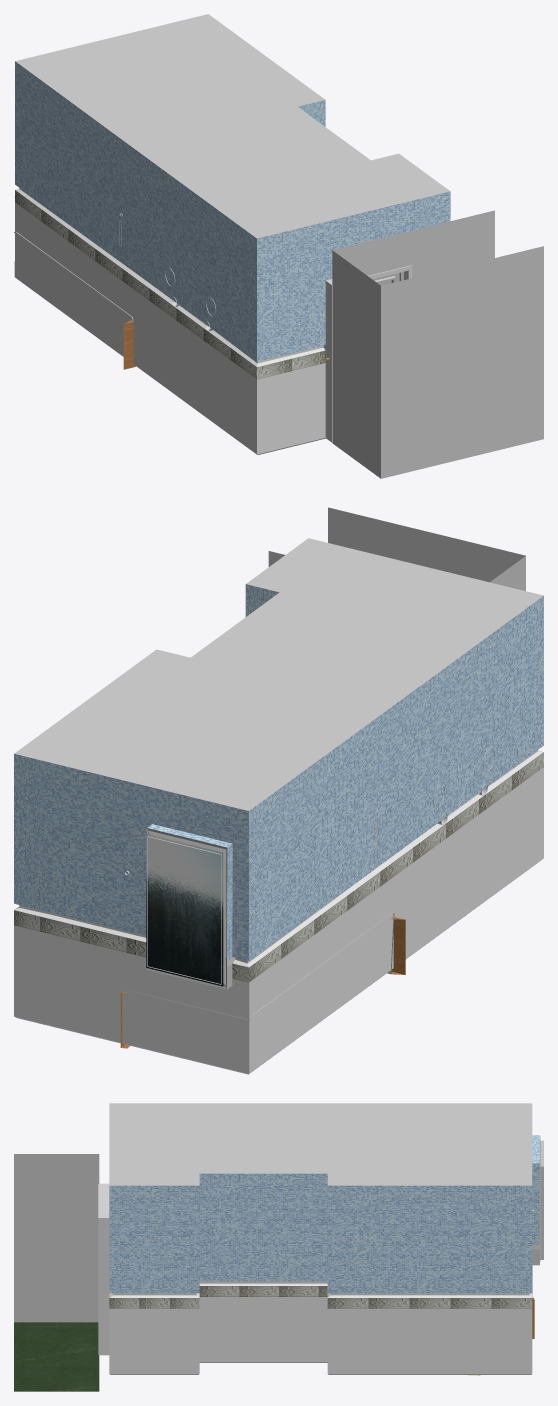
Rendered from Bathroom.fbx.
3 renders of one model, top to bottom at view 1: azimuth 30°, elevation 25°; view 2: azimuth 150°, elevation 25°; view 3: azimuth 270°, elevation 25°, orthographic. The views are drawn at different scales.
Visible parts, largest first — view 1: bathroom_walls, Door_frame; view 2: bathroom_walls, window, bath_border; view 3: bathroom_walls, Door_frame.
Boxes of the visible parts, x1,y1,x2,y2 form: bathroom_walls: (14,14,543,478); Door_frame: (323,265,412,442); bathroom_walls: (14,507,543,1074); window: (146,834,223,986); bath_border: (120,917,405,1048); bathroom_walls: (14,1103,543,1391); Door_frame: (98,1183,109,1355).
Size of the model in its own units: 2875 by 2495 by 6242.
